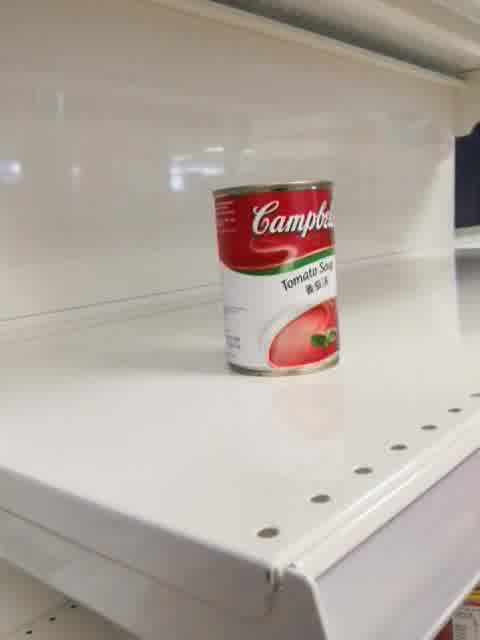tomatosoup: (209, 177, 348, 380)
